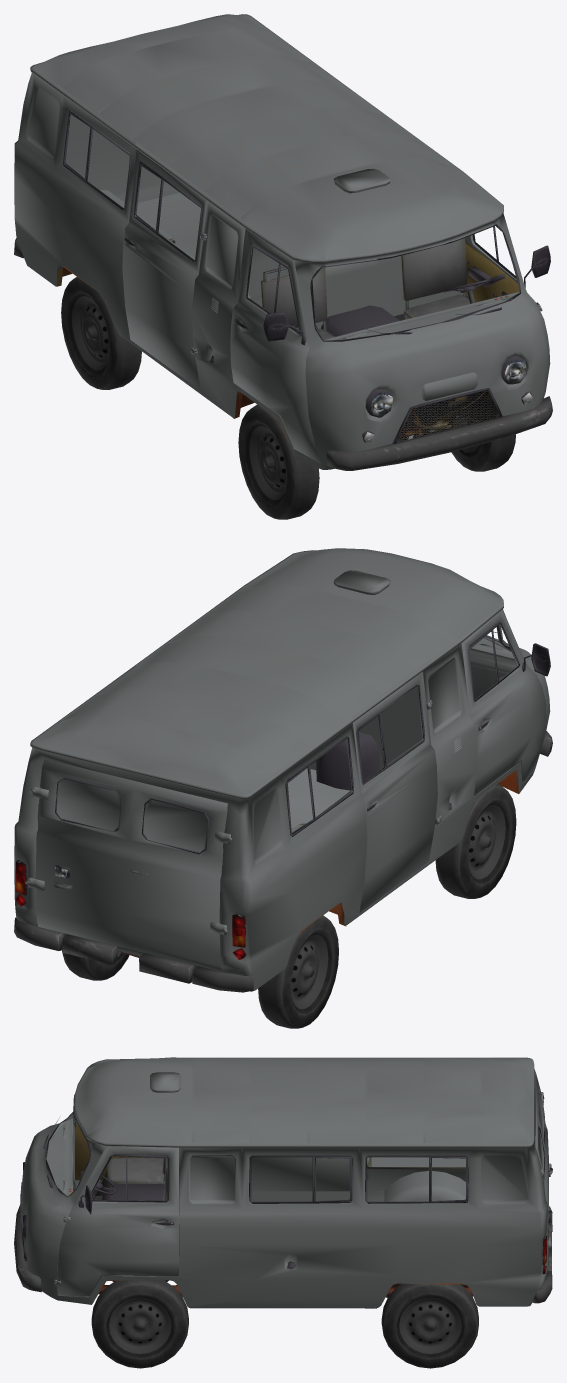
The picture shows the model from 3 angles, top to bottom: view 1: azimuth 30°, elevation 25°; view 2: azimuth 150°, elevation 25°; view 3: azimuth 270°, elevation 25°; orthographic projection. The views are drawn at different scales.
Parts seen in each view (by area): view 1: body, wheelFrontLeft, wheelRearLeft, wheelFrontRight; view 2: body, wheelFrontLeft, wheelRearLeft, wheelRearRight; view 3: body, wheelFrontRight, wheelRearRight.
Boxes of the visible parts, x1=… form: body: x1=14, y1=14, x2=552, y2=470; wheelFrontLeft: x1=238, y1=404, x2=319, y2=519; wheelRearLeft: x1=61, y1=277, x2=141, y2=389; wheelFrontRight: x1=451, y1=434, x2=515, y2=471; body: x1=14, y1=548, x2=552, y2=992; wheelFrontLeft: x1=435, y1=783, x2=516, y2=898; wheelRearLeft: x1=258, y1=915, x2=338, y2=1028; wheelRearRight: x1=62, y1=950, x2=129, y2=980; body: x1=14, y1=1057, x2=552, y2=1308; wheelFrontRight: x1=91, y1=1280, x2=188, y2=1368; wheelRearRight: x1=381, y1=1283, x2=478, y2=1368.
Size of the model in its own units: 2.23 by 2.22 by 4.42.
5 materials, 2 textured.
